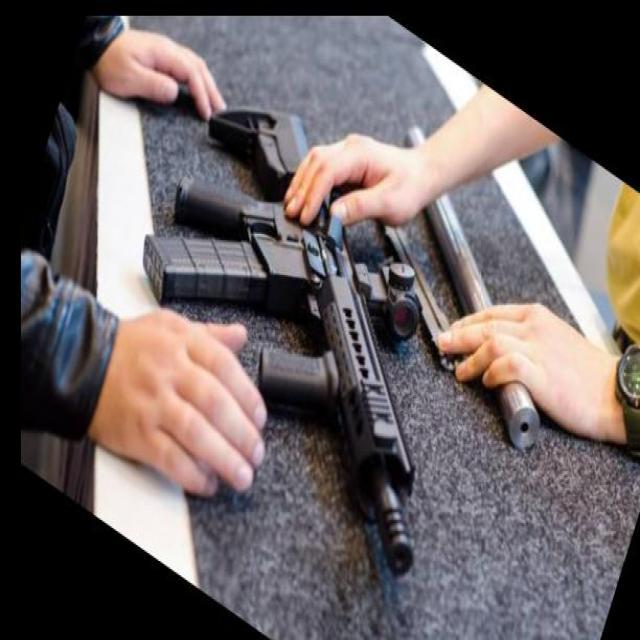weapon: (141, 104, 416, 580)
